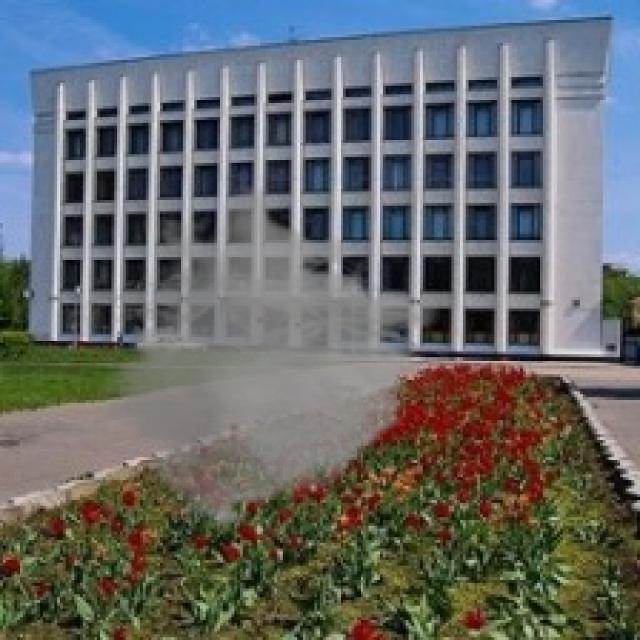Smoke: (68, 182, 454, 528)
